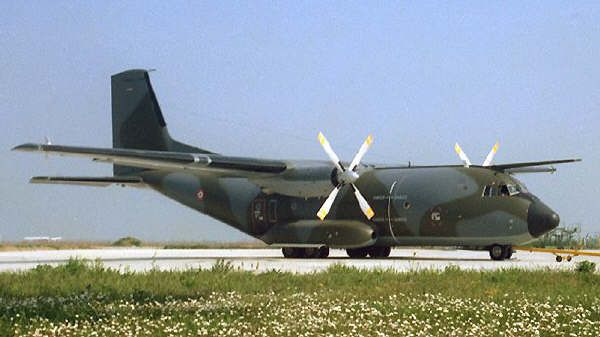Aeronef_militaire: (9, 61, 589, 269)
